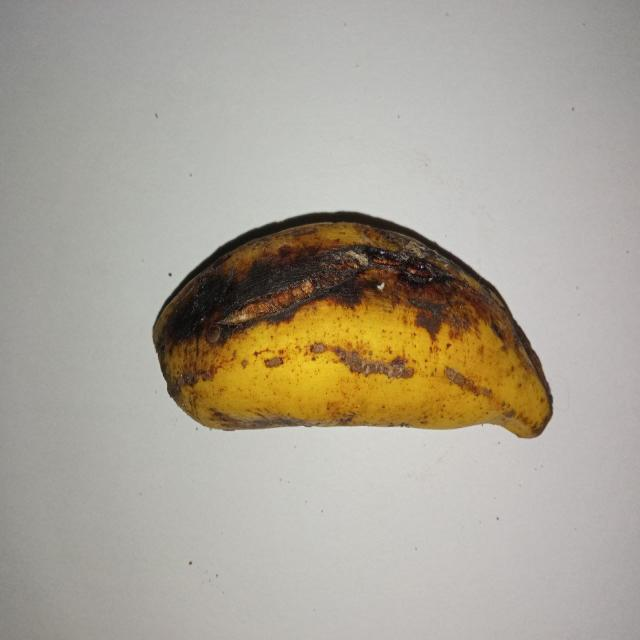rotten_banana: (156, 227, 549, 438)
